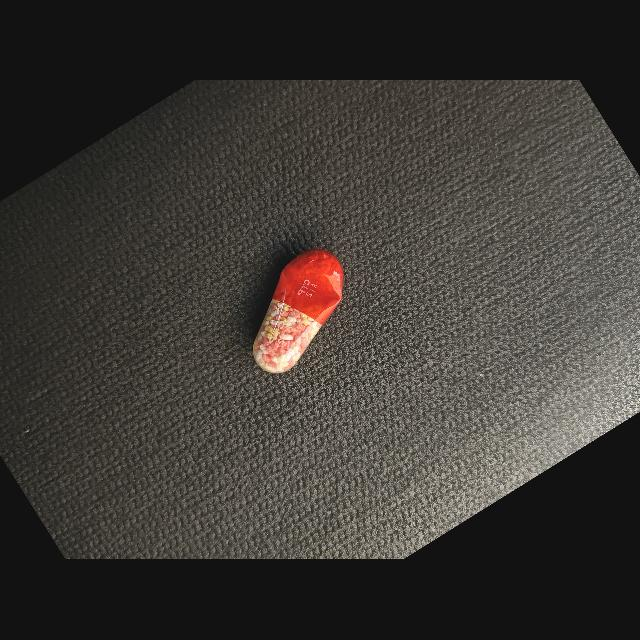Defective Capsule: (253, 250, 344, 374)
